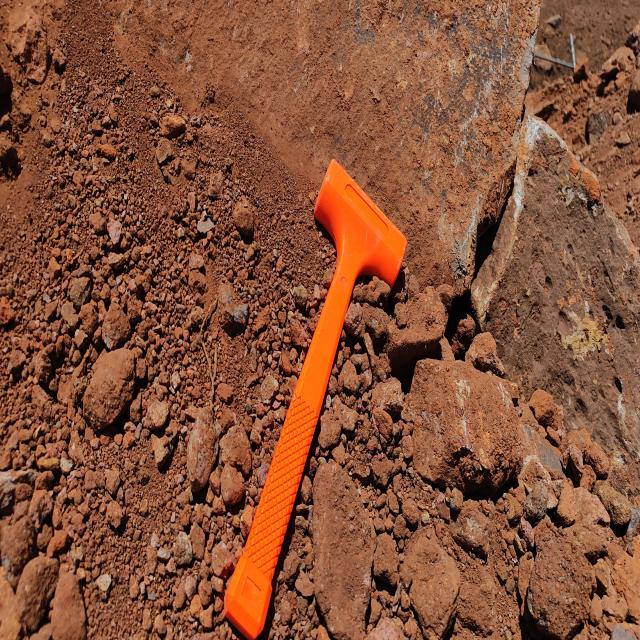Orange_hammer: (223, 157, 407, 638)
